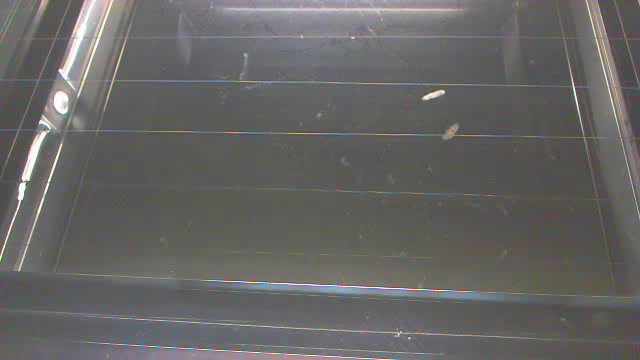alpha: (440, 120, 461, 143), (419, 88, 448, 102)
